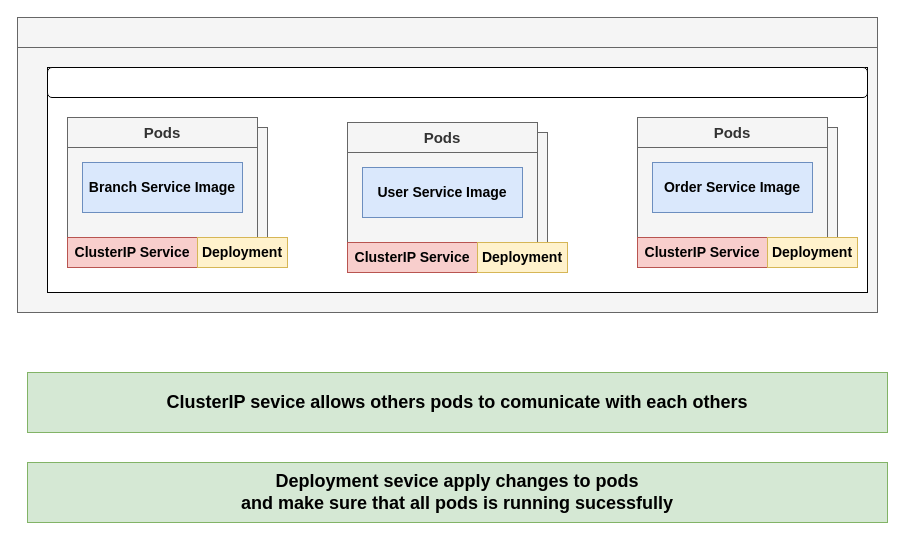
Image size: 905x540. Some labels were removed from this diagram. The shapes that lost their labels are listed below. From the top down, each one's centre as x and y in pixels, then its label:
the point at 447,32: Kubernetes cluster
the point at 457,82: Node
